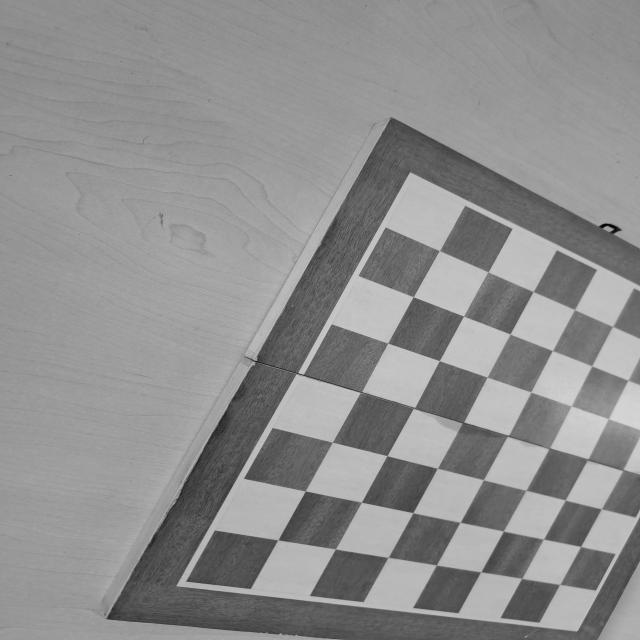chess-table-corners: (394, 168, 433, 195), (168, 568, 208, 594), (564, 620, 584, 634)
